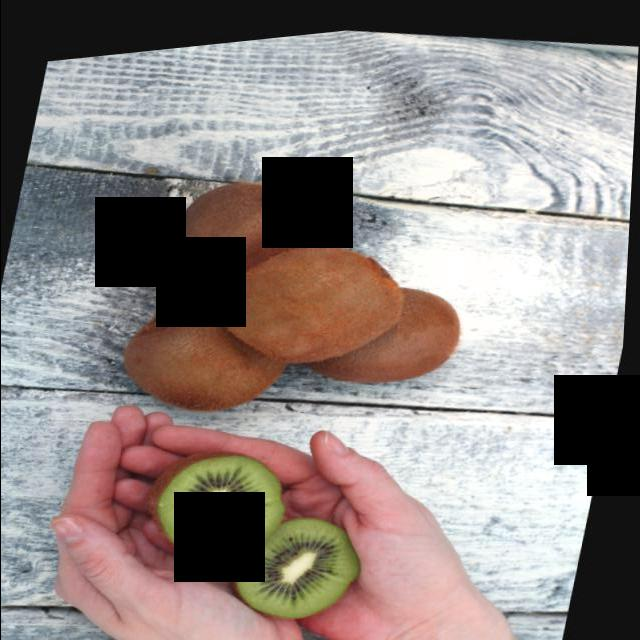kiwi: (226, 204, 428, 371), (162, 157, 353, 302), (120, 271, 303, 418), (340, 307, 472, 360)
